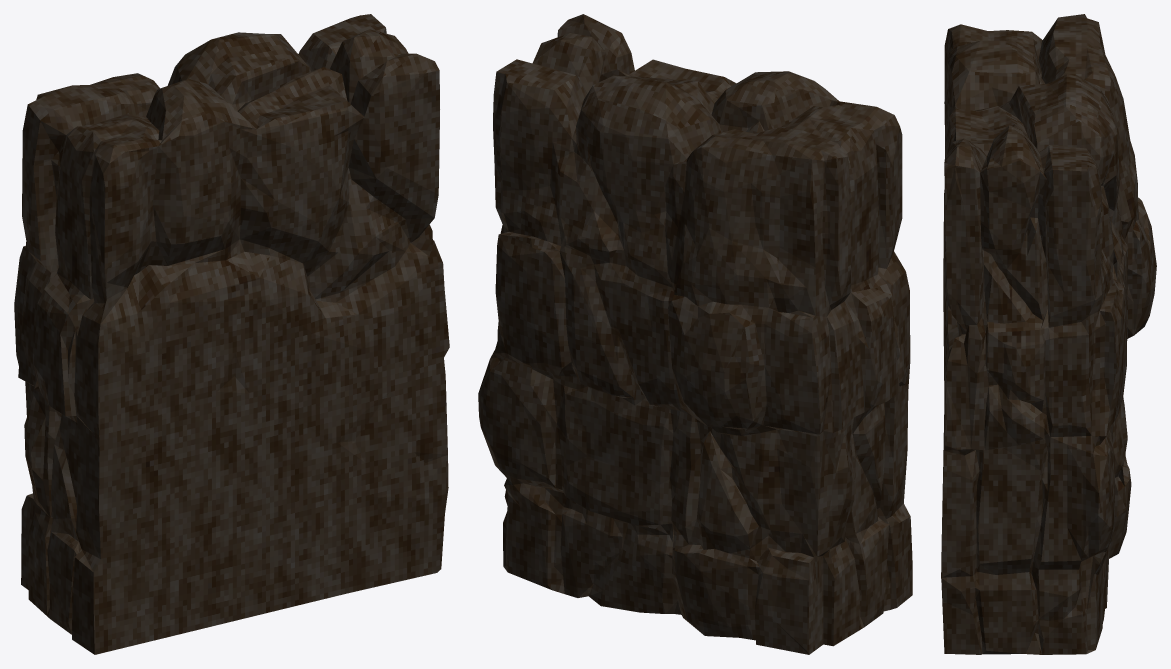
File: cave-wall4.glb
3 views of the same model, side by side, from view 1: azimuth 30°, elevation 25°; view 2: azimuth 150°, elevation 25°; view 3: azimuth 270°, elevation 25° (orthographic). The views are drawn at different scales.
Visible parts, largest first — view 1: Cube.003; view 2: Cube.003; view 3: Cube.003.
Part boxes in pixels (box(x1,y1,x2,y2)): Cube.003: box(14, 14, 449, 654); Cube.003: box(478, 14, 912, 654); Cube.003: box(941, 14, 1156, 654).
Bounding box in the file's own units: 4.72 × 6.35 × 2.42.
1 material, 1 textured.
